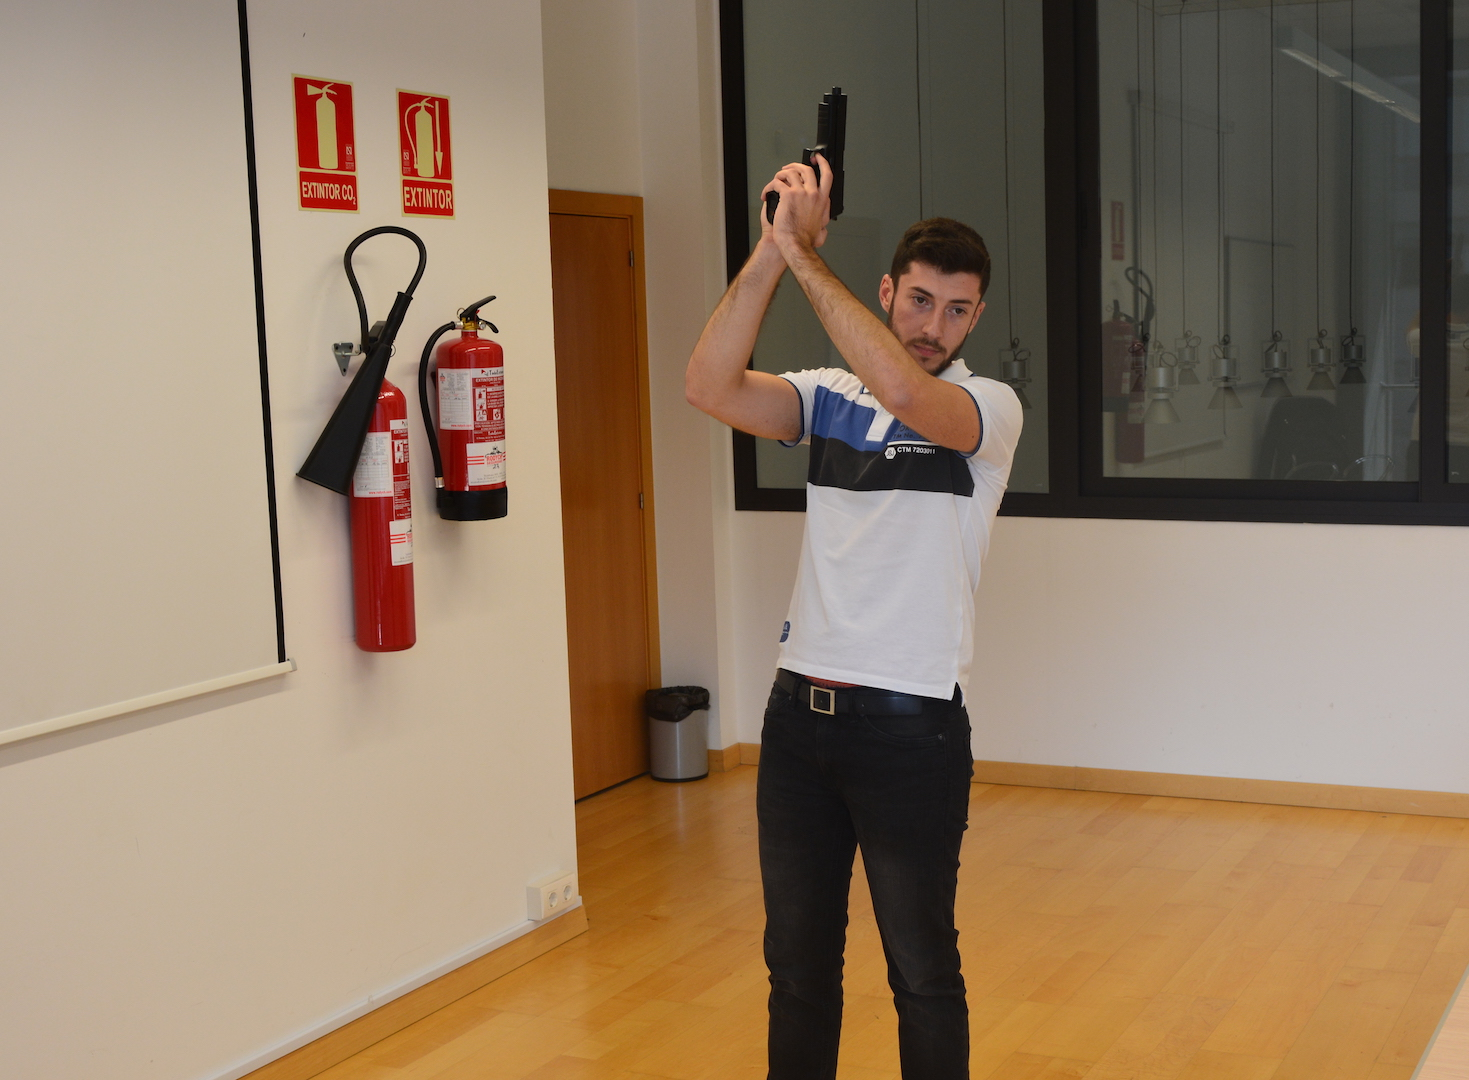pistol: (765, 86, 849, 227)
